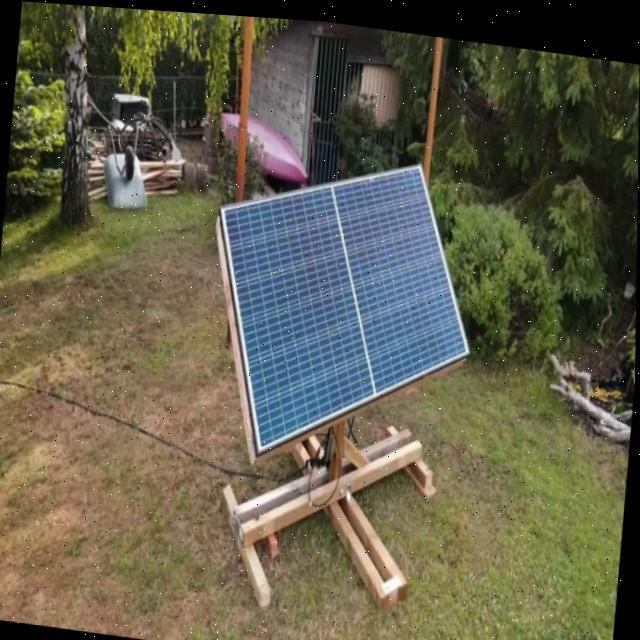Normal Solar Panel: (202, 136, 484, 478)
